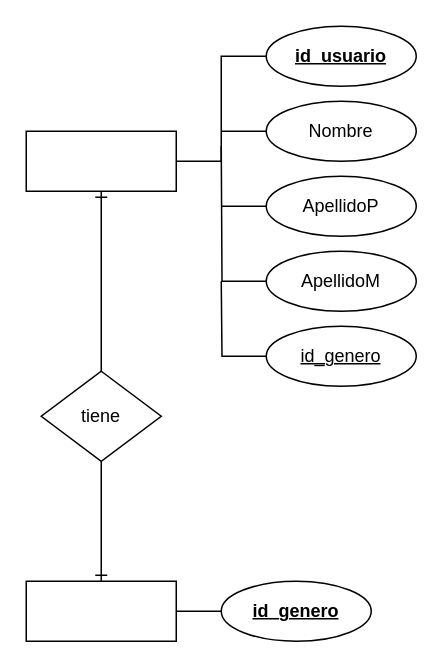
This 443x668 diagram has some shape labels left out. The centre of each missing label's shape, as x and y in pixels:
"Genero" belongs at [100,610].
"Usuario" belongs at [100,160].
